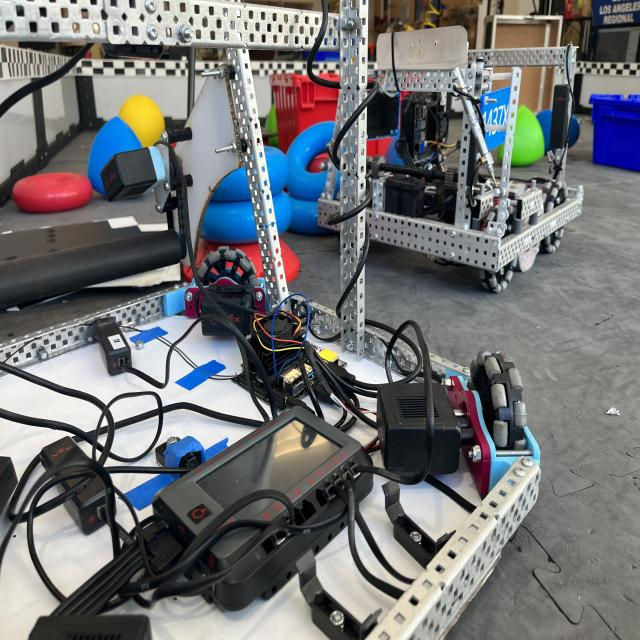Blue-Ring: (200, 192, 292, 243), (211, 147, 289, 202), (286, 122, 334, 202), (289, 197, 332, 235)
Red-Ring: (12, 172, 92, 213)
